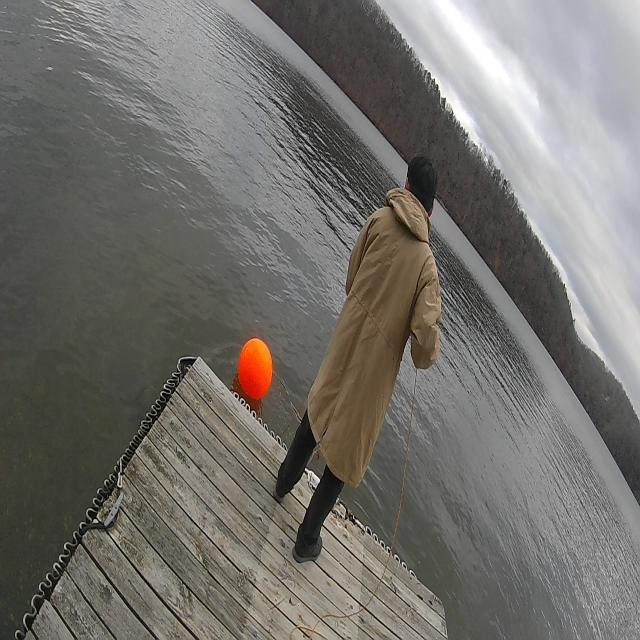Buoy: (234, 332, 274, 415)
